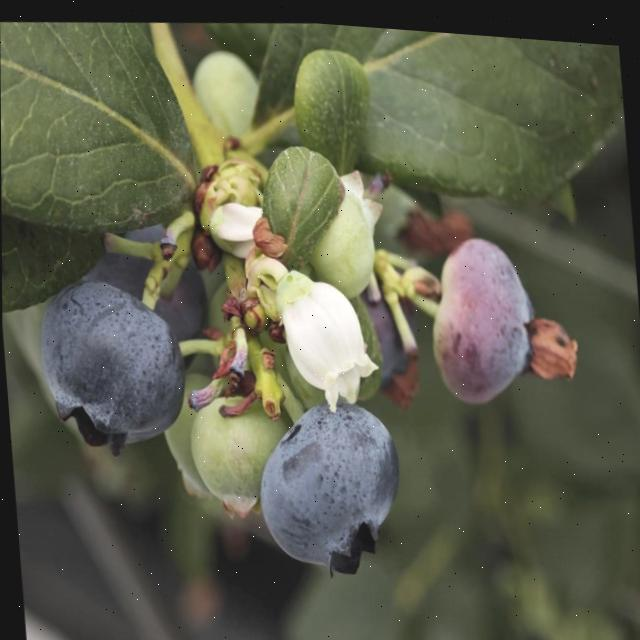RipeBlueBerry: (251, 385, 410, 585), (31, 264, 191, 461)
Semi-RipeBlueBerry: (422, 219, 546, 409)
UnripeBlueBerry: (183, 377, 292, 517)
